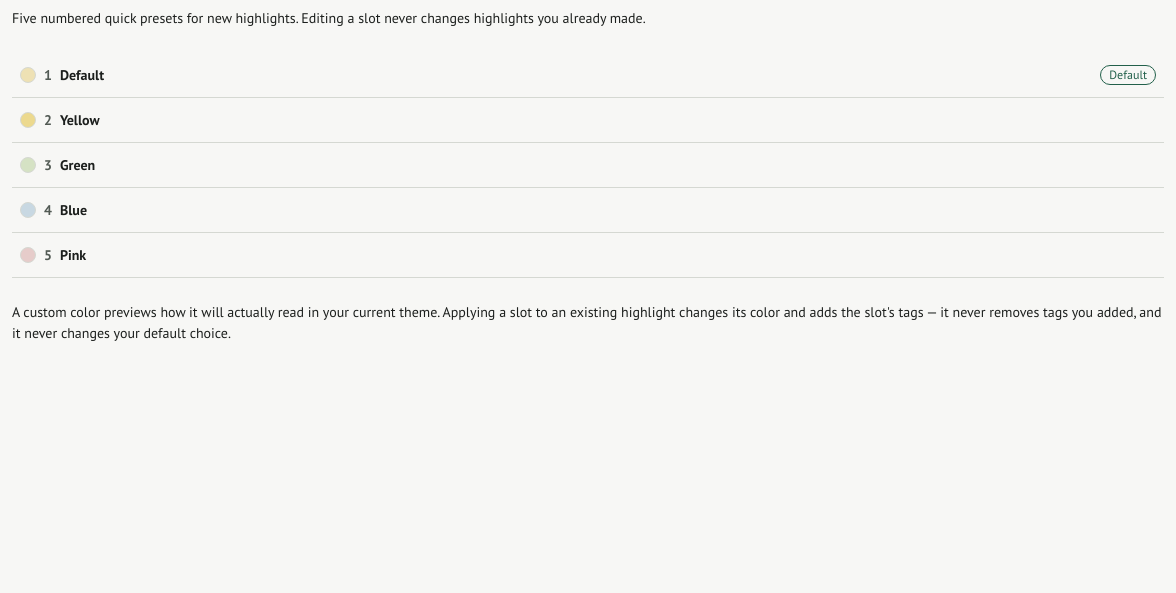
HighlightSlotSettings — the dormant custom hex (issue #222) › the native color input renders ONLY while Custom is the slot's active source
The image size is (1176, 593).
Click the button "2 Yellow" at (80, 120), box [12,98,1164,142]
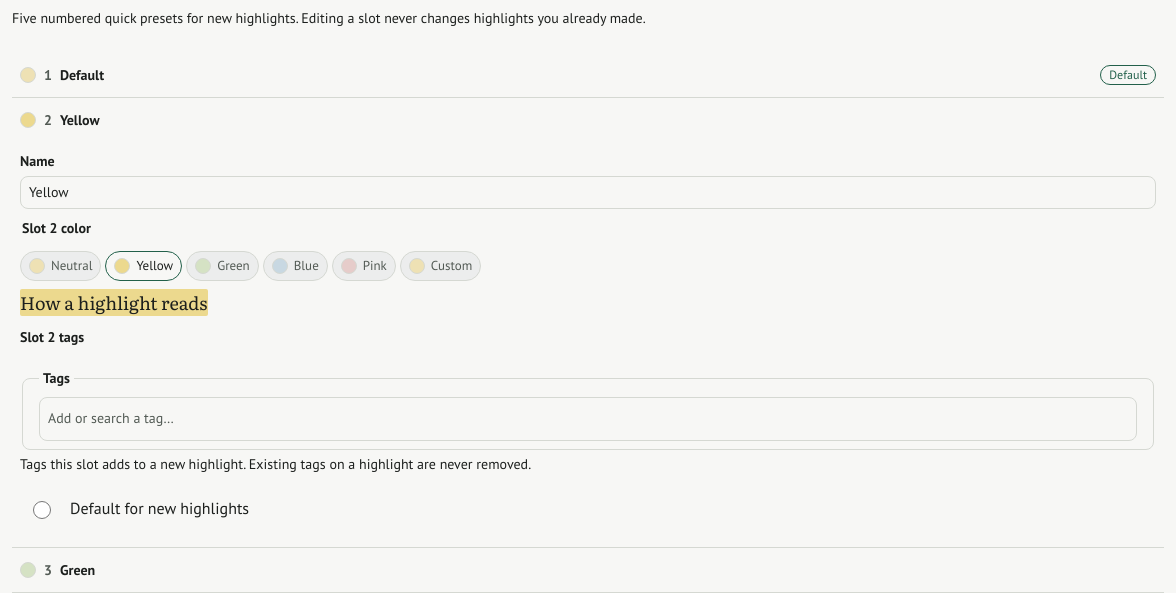
Click the radio button labelled "Custom" at (441, 266), box [400,251,481,281]
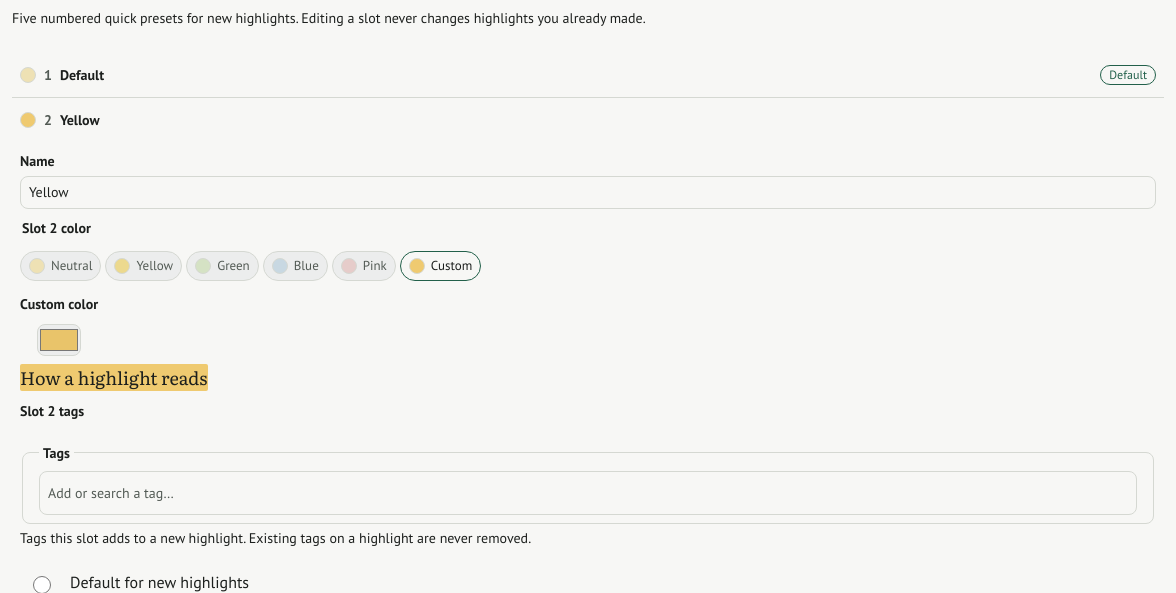
Click the radio button labelled "Green" at (222, 266), box [186,251,259,281]
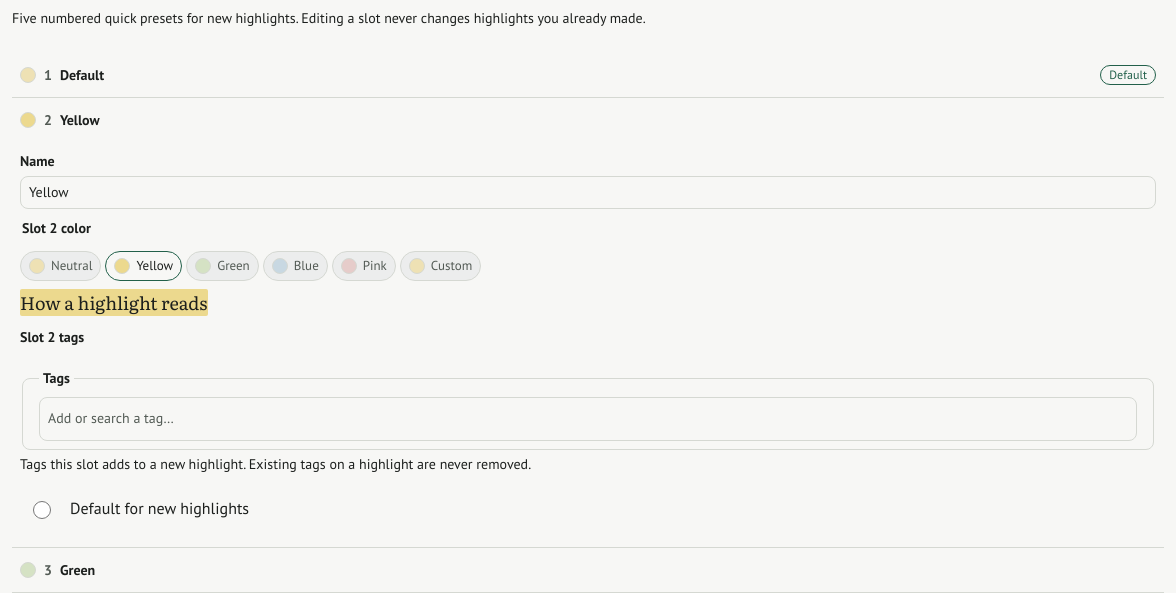
expect the colour field labelled "Slot 2 custom color" is gone: met
